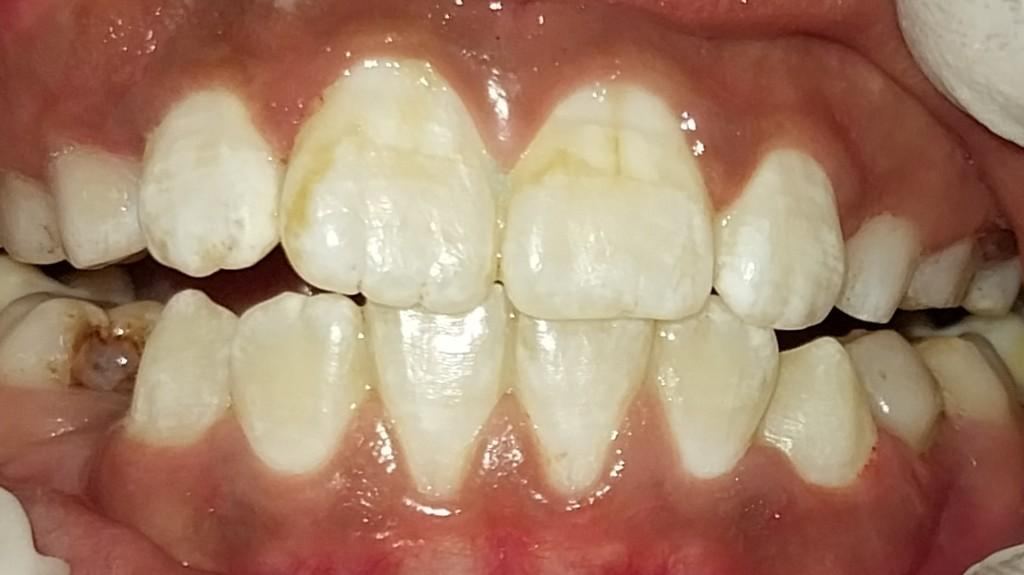d: (2, 292, 144, 397)
